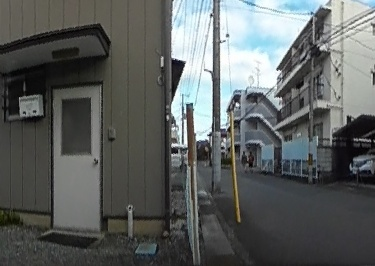person: (246, 150, 256, 172), (239, 148, 247, 171)
